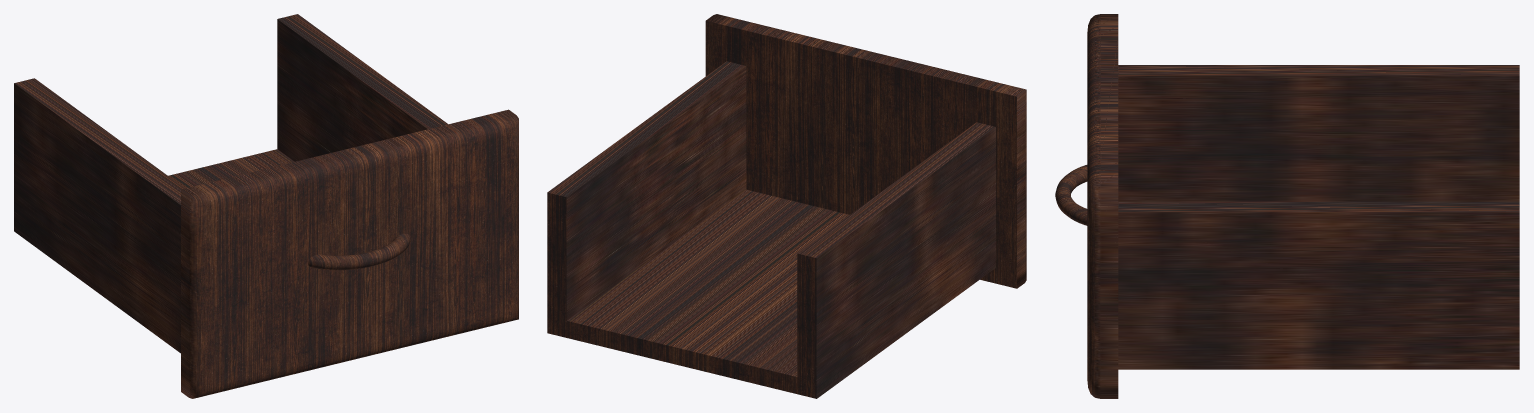
Rendered from ngithTableandDresser_draw_colored.FBX.
3 renders of one model, left to right at view 1: azimuth 30°, elevation 25°; view 2: azimuth 150°, elevation 25°; view 3: azimuth 270°, elevation 25°, orthographic. The views are drawn at different scales.
Visible parts, largest first — view 1: Box001; view 2: Box001; view 3: Box001.
Part boxes in pixels (bbox=[...]): Box001: bbox=[14, 14, 518, 398]; Box001: bbox=[547, 14, 1026, 398]; Box001: bbox=[1055, 14, 1519, 398].
Bounding box in the file's own units: 25.75 × 15.18 × 29.71.
Materials: 1 (1 with a texture image).
